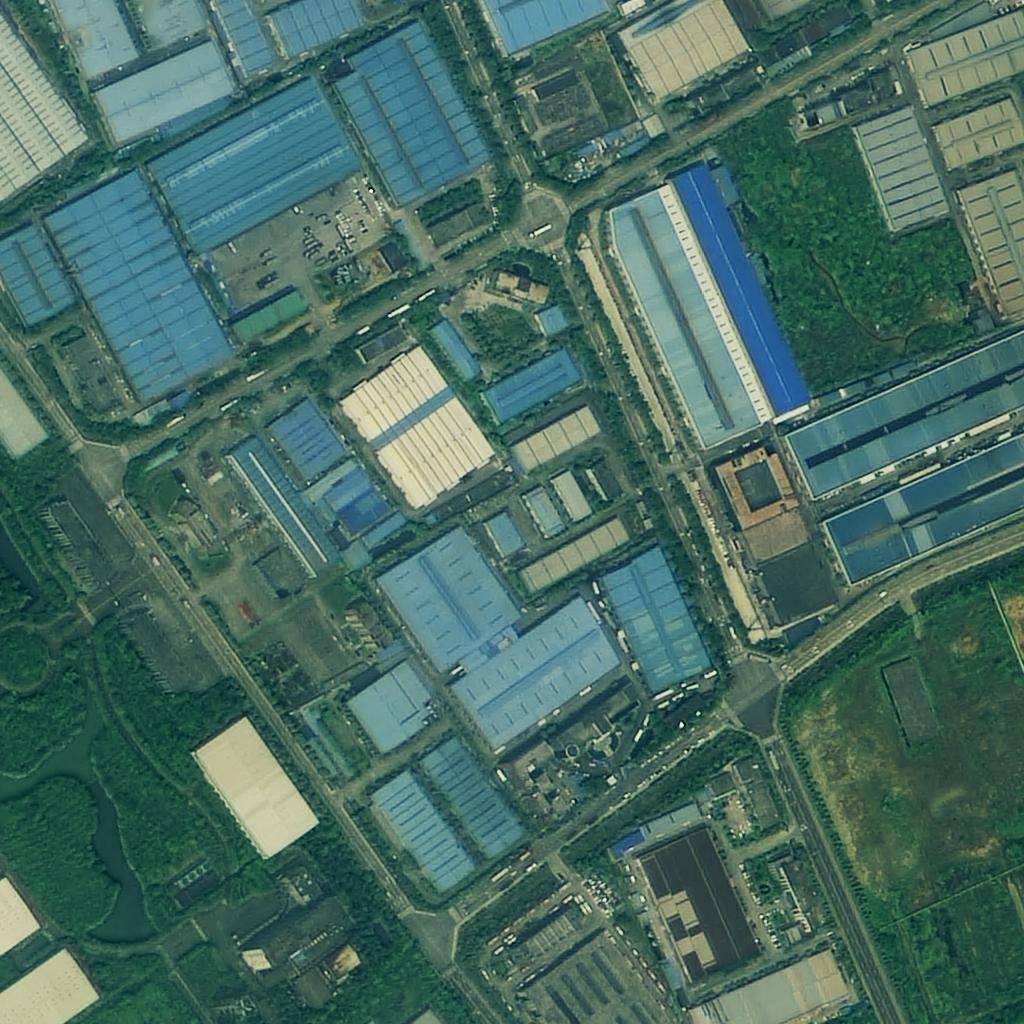domestic garbage: (553, 145, 612, 182)
